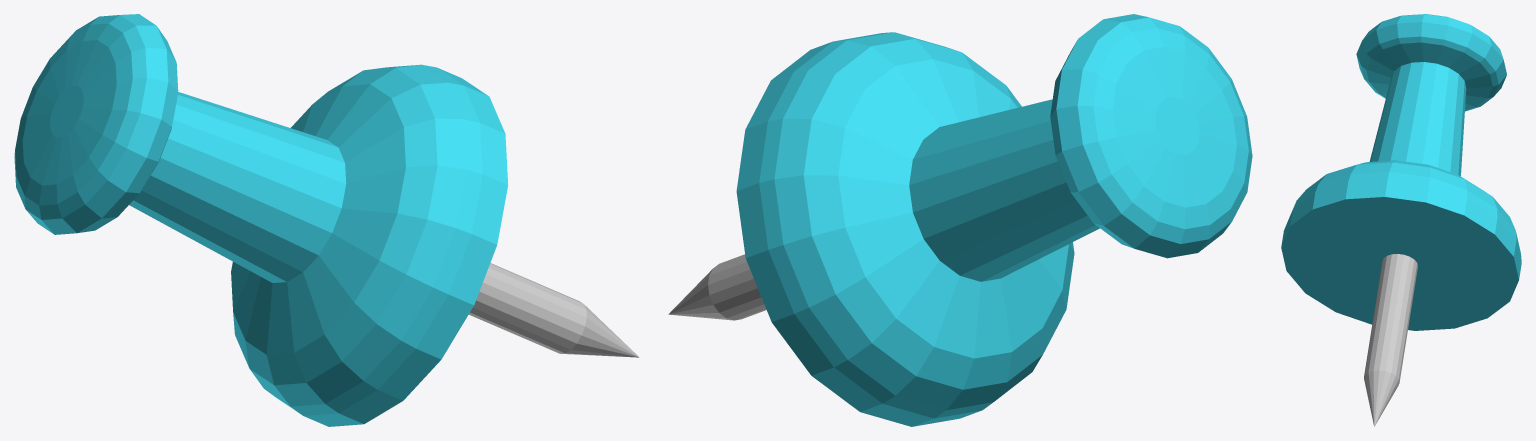
Rendered from 5fa52aa4-ad8a-4799-b378-10a00e4fba2a.glb.
3 renders of one model, left to right at view 1: azimuth 30°, elevation 25°; view 2: azimuth 150°, elevation 25°; view 3: azimuth 270°, elevation 25°, orthographic. The views are drawn at different scales.
Parts seen in each view (by area): view 1: Cylinder001; view 2: Cylinder001; view 3: Cylinder001.
Part boxes in pixels (x1,y1,x2,y2): Cylinder001: (14, 14, 639, 426); Cylinder001: (668, 14, 1252, 426); Cylinder001: (1281, 14, 1521, 426).
Size of the model in its own units: 102003 by 71925 by 58648.
